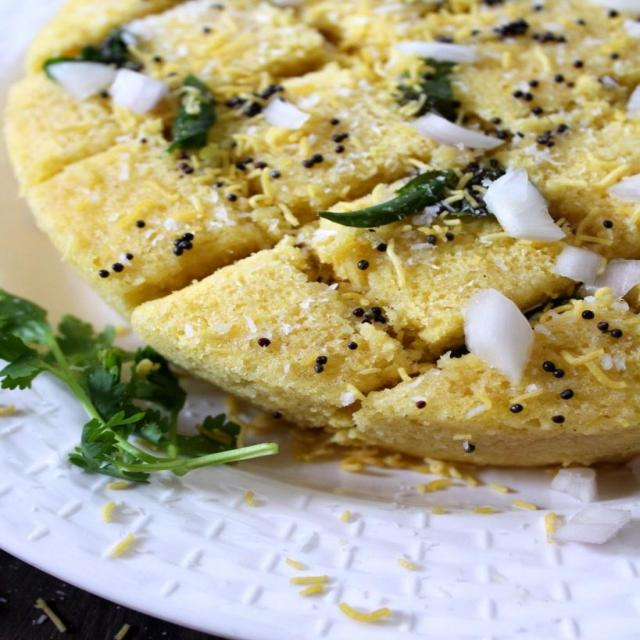dhokla: (10, 0, 640, 494)
